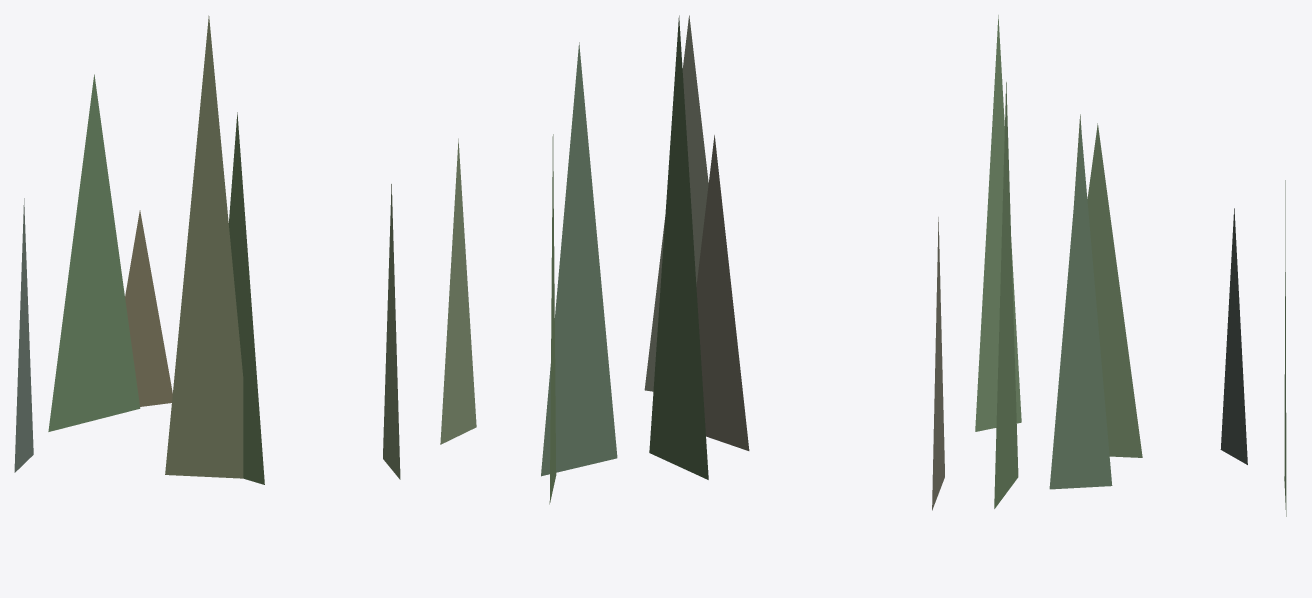
The model's file is fallback_grass_patch.glb.
The picture shows the model from 3 angles, left to right: view 1: azimuth 30°, elevation 25°; view 2: azimuth 150°, elevation 25°; view 3: azimuth 270°, elevation 25°; orthographic projection. The views are drawn at different scales.
Visible parts, largest first — view 1: world; view 2: world; view 3: world.
Boxes of the visible parts, bbox=[...] form: world: bbox=[14, 15, 400, 484]; world: bbox=[440, 15, 749, 504]; world: bbox=[932, 15, 1286, 516].
Bounding box in the file's own units: 0.5034 × 0.6357 × 0.5754.
